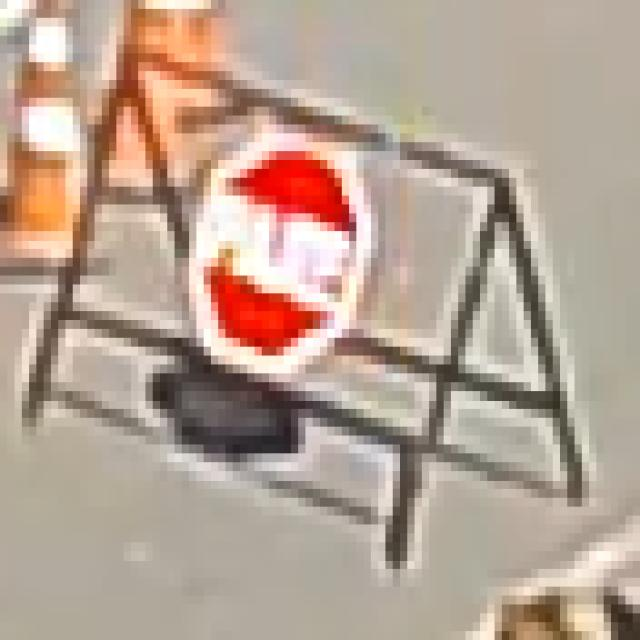stop_sign: (32, 31, 610, 607)
